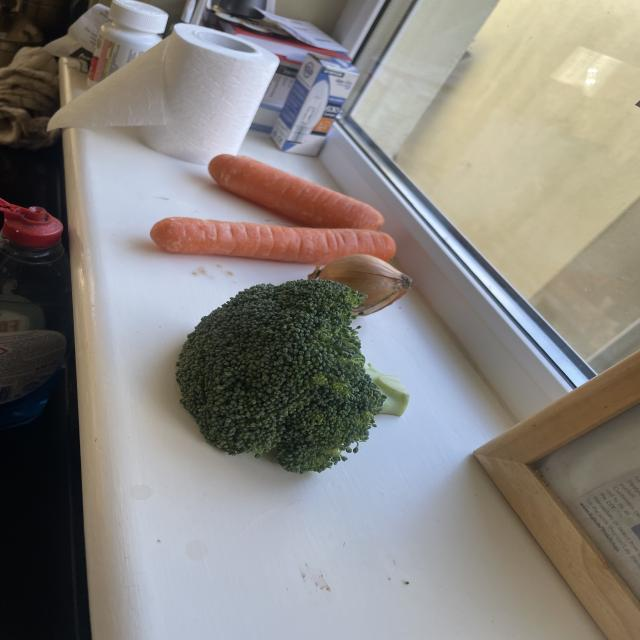Broccoli: (174, 278, 412, 474)
Carrot: (207, 152, 386, 234), (150, 215, 397, 268)
Onion: (300, 252, 415, 318)
